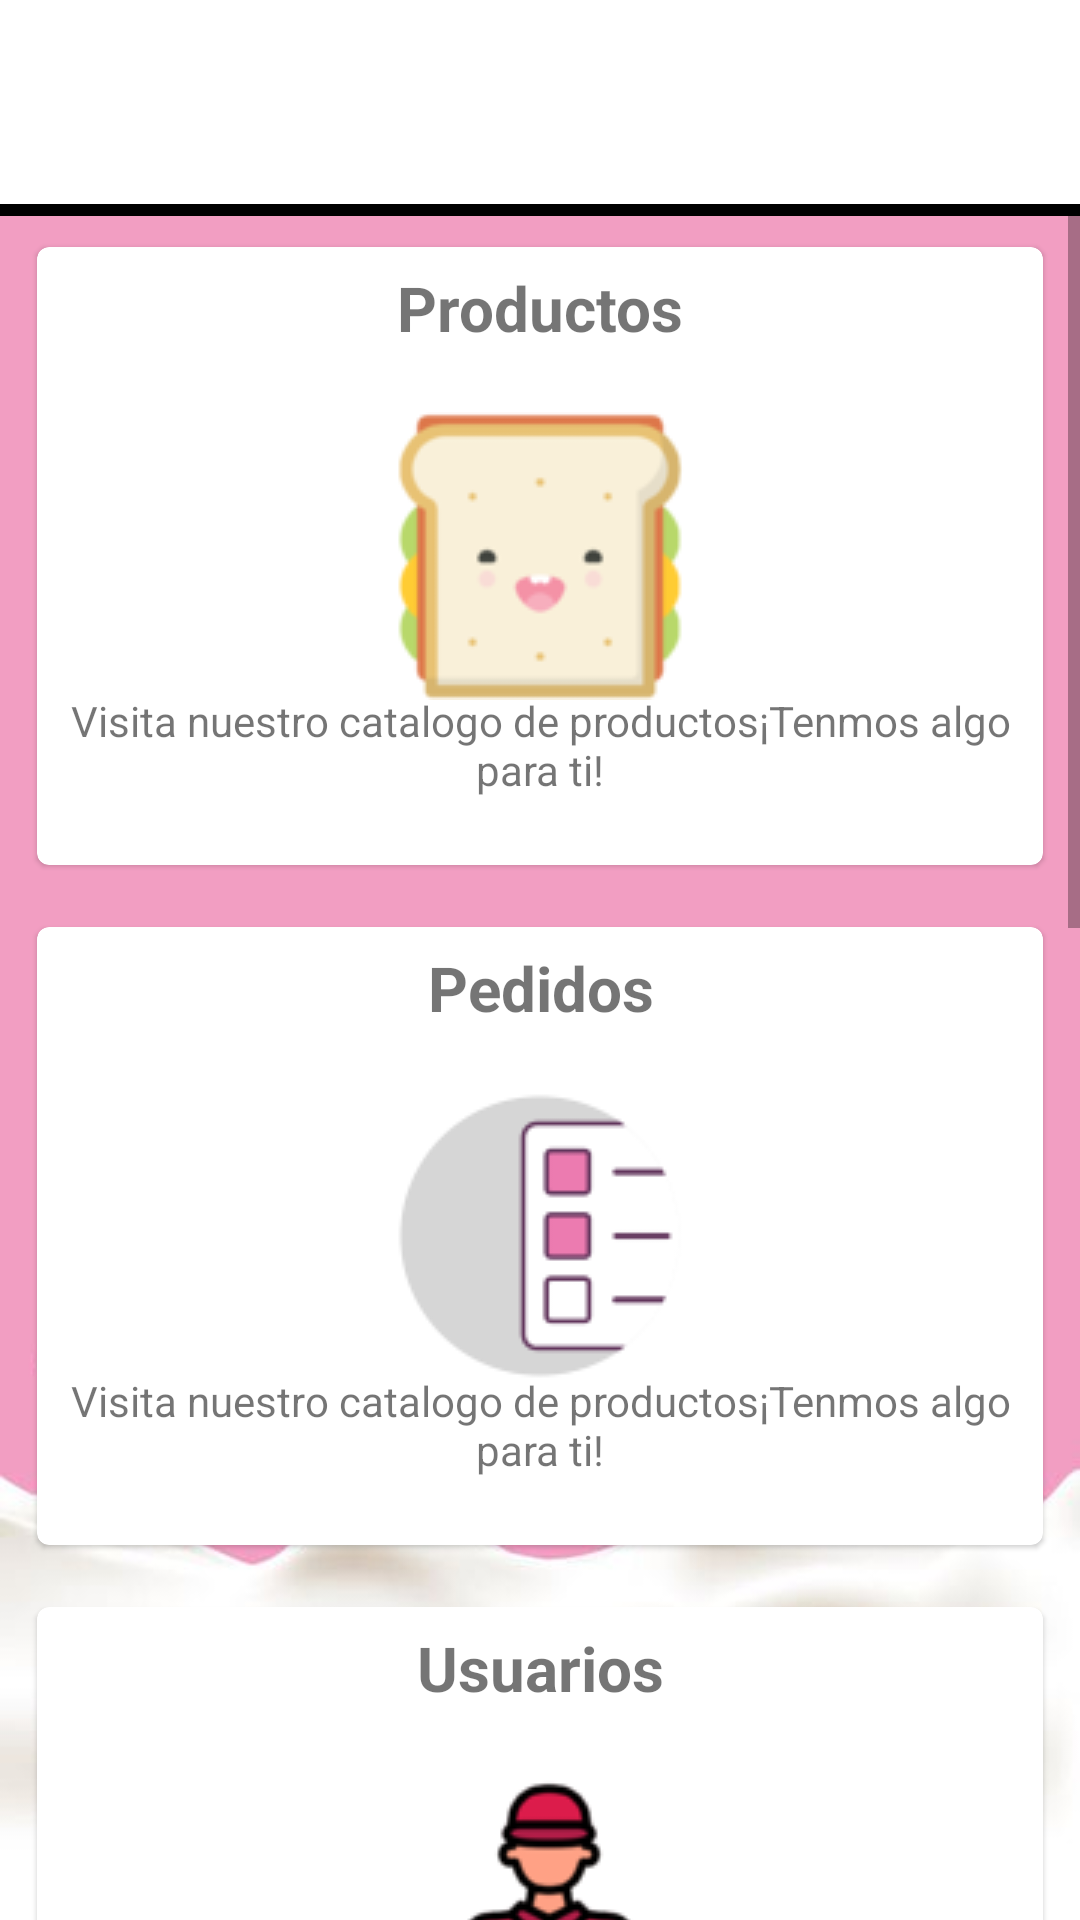

Locate icon controls on the screen. Image size 1080px×1920px, boxes as (x1, y1, x2, y2).
sandiwch: (398, 414, 682, 700)
